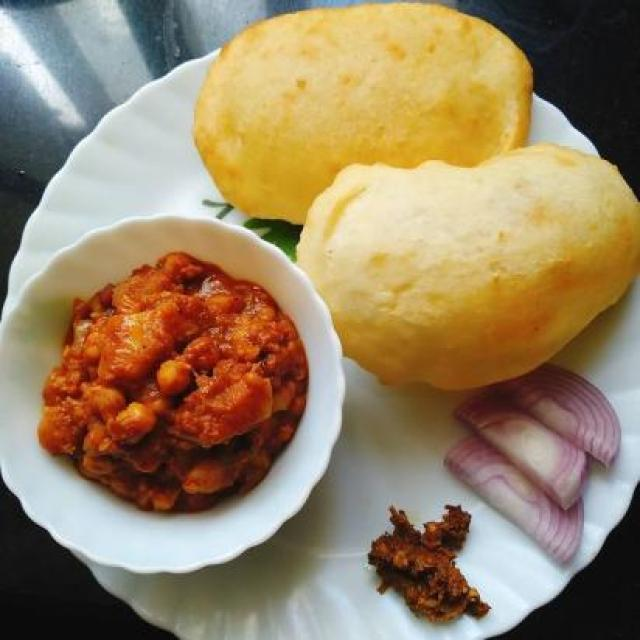chole: (15, 228, 304, 550)
poori: (196, 5, 613, 372)
